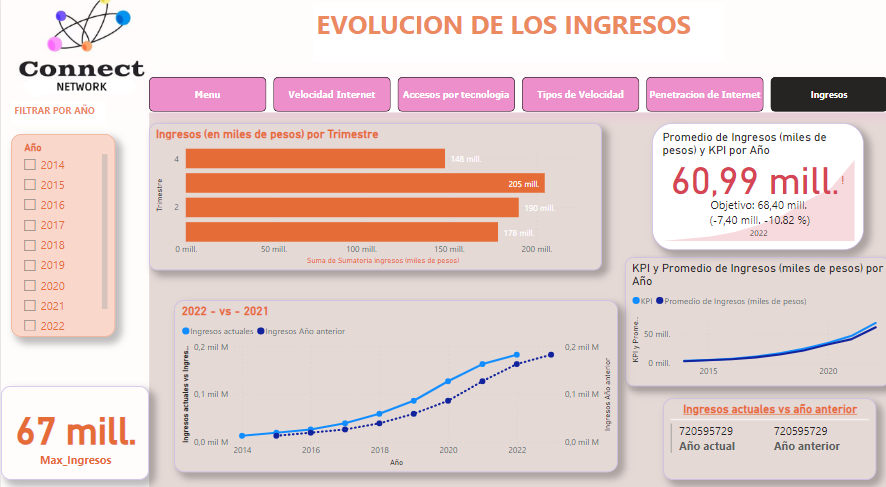

The page's visual inventory and layout, read from the dashboard file:
{"tool":"powerbi","page":{"name":"Ingresos ","canvas":[1280,720],"ordinal":5},"visuals":[{"type":"pageNavigator","box":[212.8,119.7,1067.2,50.8],"z":0},{"type":"clusteredBarChart","title":"Ingresos (en miles de pesos) por Trimestre","fields":{"Y":["Sum(internet_ingresos.Ingresos (miles de pesos))"],"Category":["internet_ingresos.Trimestre"]},"box":[213.1,185.8,652.3,211.7],"z":1000},{"type":"textbox","box":[14.4,154.1,136.8,31.7],"z":2000},{"type":"card","fields":{"Values":["internet_ingresos.Max_Ingresos"]},"box":[0,564.5,213.1,135.4],"z":3000},{"type":"kpi","fields":{"Goal":["internet_ingresos.KPI"],"TrendLine":["Calendario.Año"],"Indicator":["Avg(internet_ingresos.Ingresos (miles de pesos))"]},"box":[937.4,185.8,305.3,182.9],"z":4000},{"type":"lineChart","fields":{"Category":["Calendario.Año"],"Y":["internet_ingresos.KPI","Avg(internet_ingresos.Ingresos (miles de pesos))"]},"box":[898.6,378.7,381.6,185.8],"z":5000},{"type":"lineChart","fields":{"Category":["Calendario.Date.Variación.Jerarquía de fechas.Año"],"Y":["Sum(internet_ingresos.Sumatoria ingresos (miles de pesos))"],"Y2":["internet_ingresos.Ingresos_LY"]},"box":[249.1,440.6,639.4,247.7],"z":6000},{"type":"multiRowCard","title":"Ingresos actuales vs año anterior","fields":{"Values":["Sum(internet_ingresos.Sumatoria ingresos (miles de pesos))","internet_ingresos.Ingresos_LY"]},"box":[953.3,581.8,306.7,118.1],"z":7000},{"type":"slicer","fields":{"Values":["Calendario.Date.Variación.Jerarquía de fechas.Año"]},"box":[14.4,201.6,149.8,292.3],"z":8000},{"type":"textbox","box":[449.3,13,593.3,83.5],"z":8001}]}

Visuals, with their boxes in screenshot pixels (x1, y1, x2, y2), scaled from the page's 1280x720 canvas onto the 886x487 screenshot:
pageNavigator: rect(147, 81, 885, 115)
"Ingresos (en miles de pesos) por Trimestre" clusteredBarChart: rect(148, 126, 599, 269)
textbox: rect(10, 104, 105, 126)
card - internet_ingresos.Max_Ingresos: rect(0, 382, 148, 473)
kpi - internet_ingresos.KPI x Calendario.Año: rect(649, 126, 860, 249)
lineChart - Calendario.Año x internet_ingresos.KPI: rect(622, 256, 885, 382)
lineChart - Calendario.Date.Variación.Jerarquía de fechas.Año x Sum(internet_ingresos.Sumatoria ingresos (miles de pesos)): rect(172, 298, 615, 466)
"Ingresos actuales vs año anterior" multiRowCard: rect(660, 394, 872, 473)
slicer - Calendario.Date.Variación.Jerarquía de fechas.Año: rect(10, 136, 114, 334)
textbox: rect(311, 9, 722, 65)
